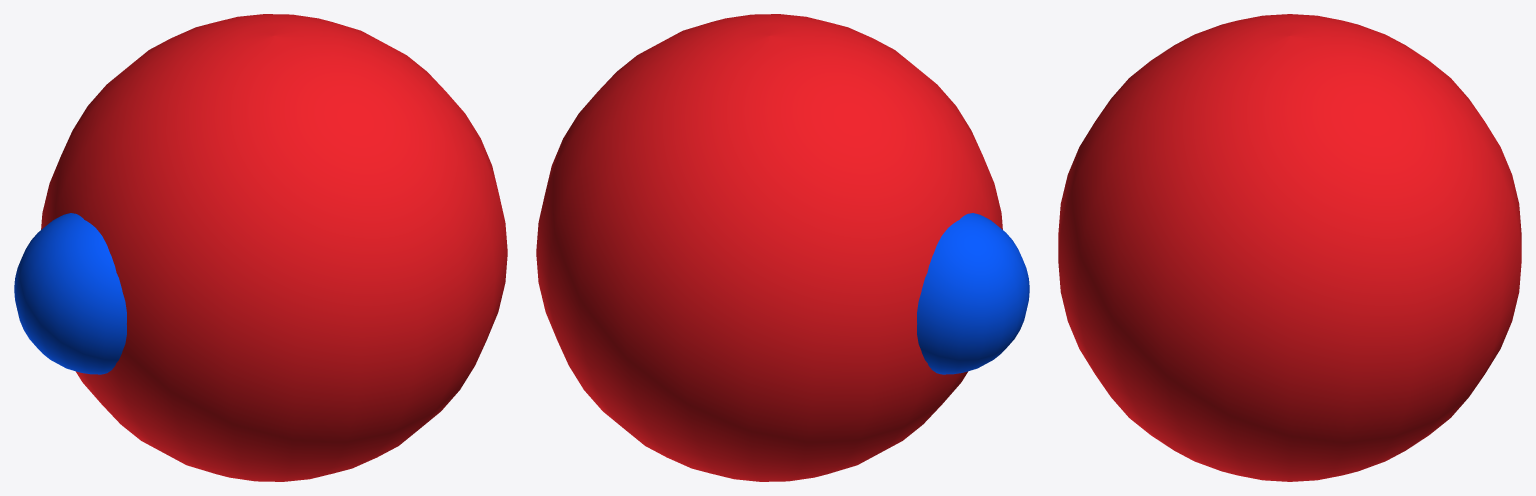
The picture shows the model from 3 angles, left to right: view 1: azimuth 30°, elevation 25°; view 2: azimuth 150°, elevation 25°; view 3: azimuth 270°, elevation 25°; orthographic projection.
Visible parts, largest first — view 1: Сферы_Node (×2); view 2: Сферы_Node (×2); view 3: Сферы_Node.
Boxes of the visible parts, x1,y1,x2,y2 form: Сферы_Node (×2): [14, 14, 507, 481]; Сферы_Node (×2): [536, 14, 1029, 481]; Сферы_Node: [1058, 14, 1521, 481].
Size of the model in its own units: 3.12 by 2.8 by 2.77.
Materials: 2 (2 with a texture image).
